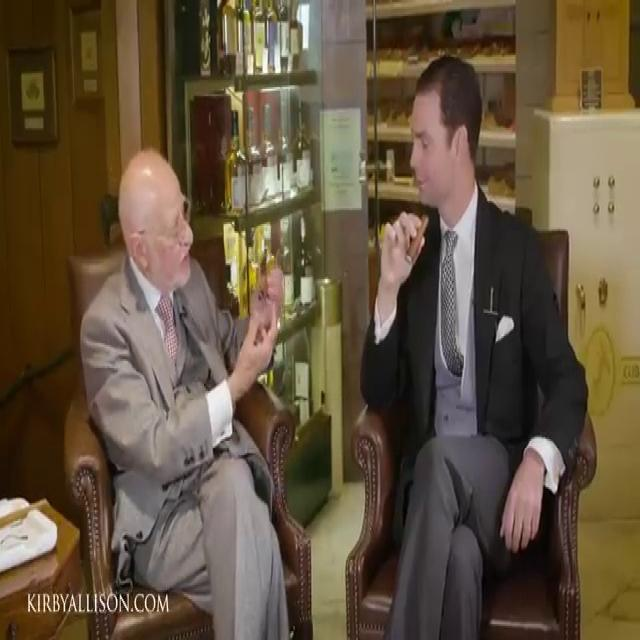Smooking: (406, 211, 430, 278)
